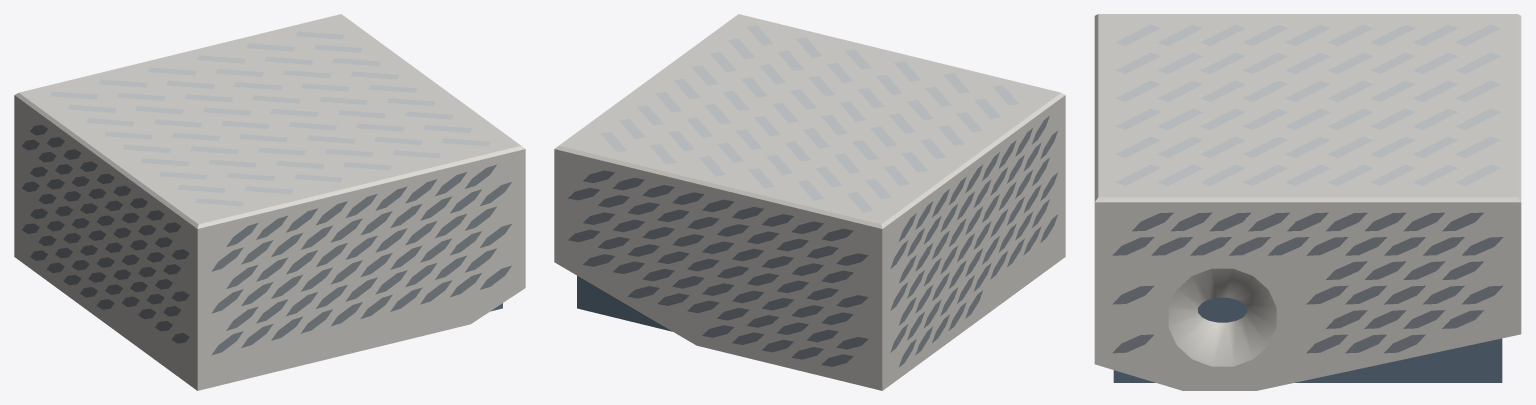
The model's file is la-broad.glb.
3 renders of one model, left to right at view 1: azimuth 30°, elevation 25°; view 2: azimuth 150°, elevation 25°; view 3: azimuth 270°, elevation 25°, orthographic. The views are drawn at different scales.
Parts seen in each view (by area): view 1: The Broad; view 2: The Broad; view 3: The Broad.
Boxes of the visible parts, x1,y1,x2,y2 form: The Broad: (14,14,525,390); The Broad: (554,14,1065,390); The Broad: (1094,14,1521,390).
Size of the model in its own units: 60.1 by 28.85 by 58.1.
